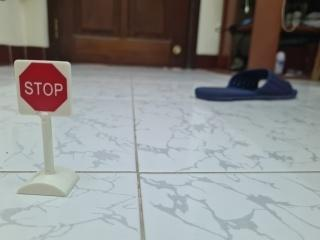stop: (4, 50, 77, 123)
